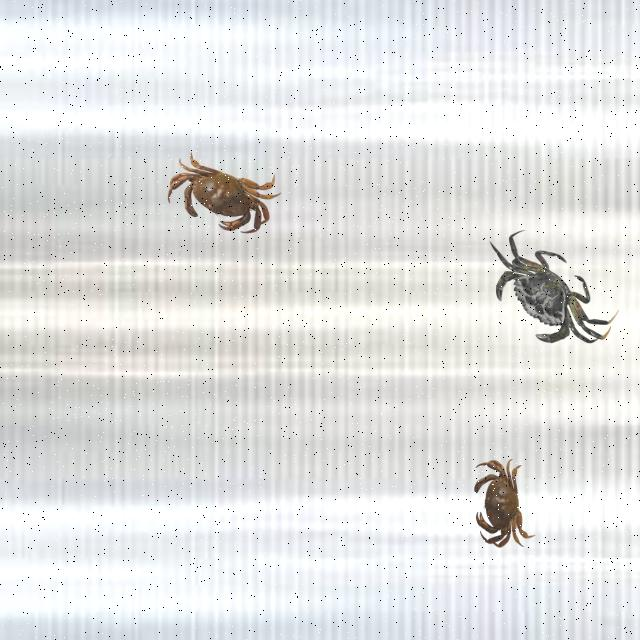European_Green_Crab: (465, 216, 627, 374)
